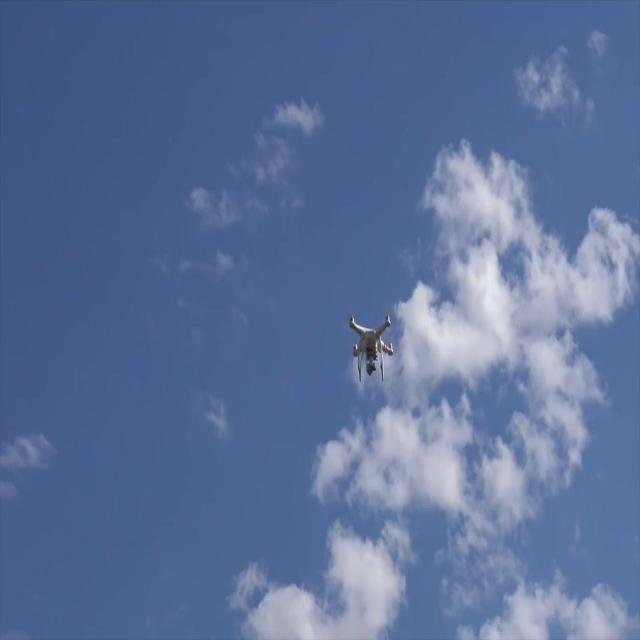drone: (347, 313, 396, 385)
